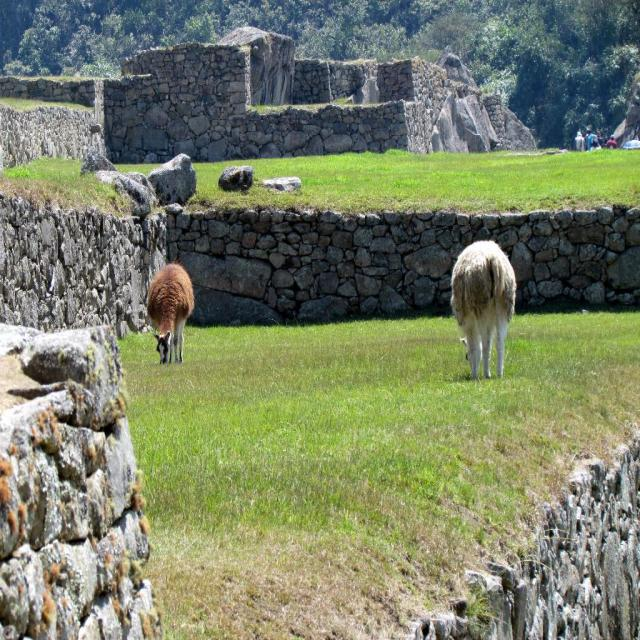Cattle: (448, 232, 519, 394), (146, 265, 198, 366)
